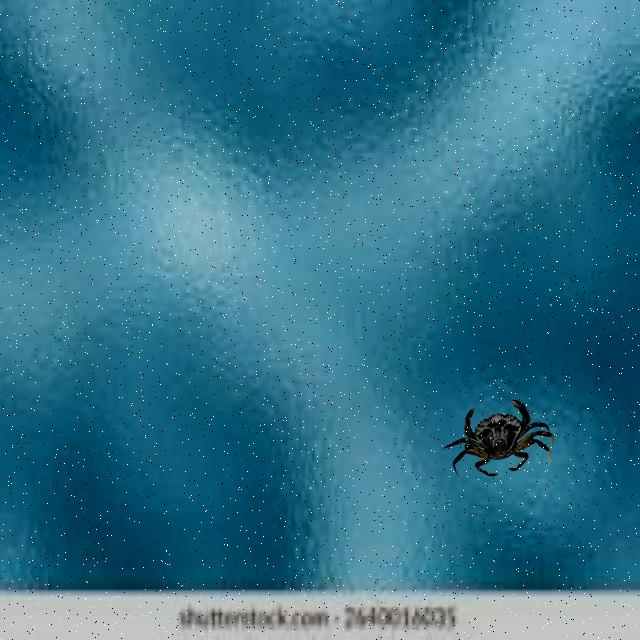European_Green_Crab: (439, 393, 557, 488)
